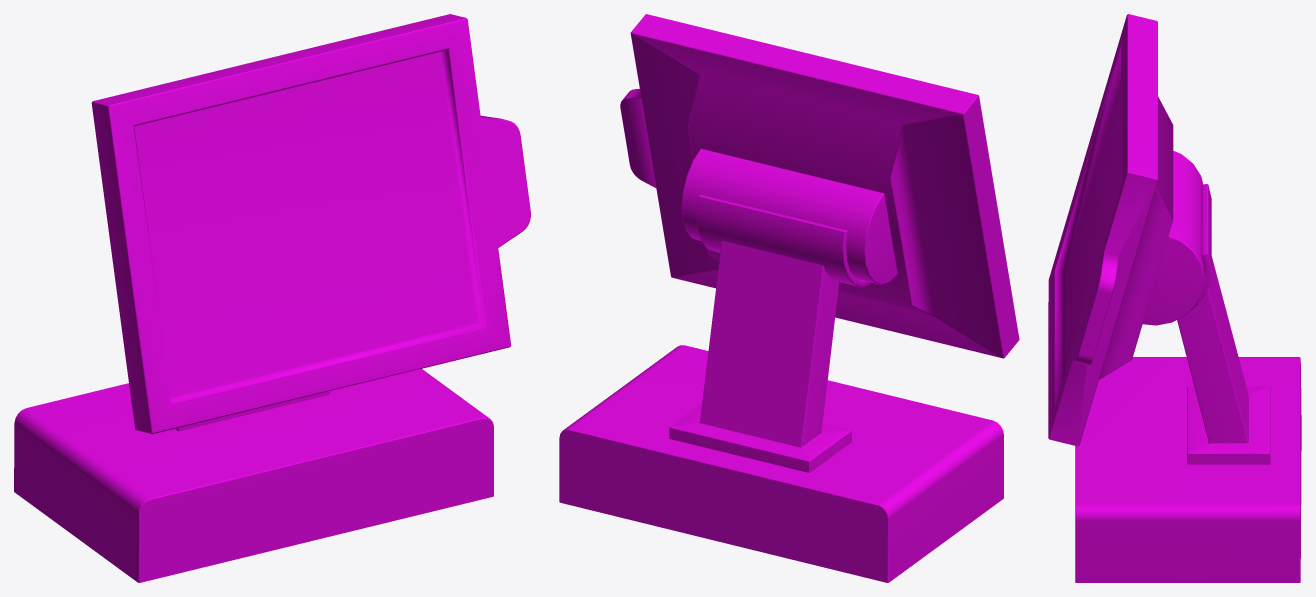
The model's file is Mesh_CashRegister.fbx.
3 renders of one model, left to right at view 1: azimuth 30°, elevation 25°; view 2: azimuth 150°, elevation 25°; view 3: azimuth 270°, elevation 25°, orthographic. The views are drawn at different scales.
Visible parts, largest first — view 1: cash_register_low; view 2: cash_register_low; view 3: cash_register_low.
Boxes of the visible parts, <box> form: cash_register_low: <box>14,14,530,582</box>; cash_register_low: <box>559,14,1019,582</box>; cash_register_low: <box>1048,14,1301,582</box>.
Bounding box in the file's own units: 59 × 64.96 × 36.2.
